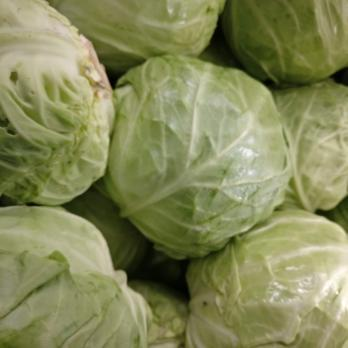Cabbage: (0, 1, 346, 348)
